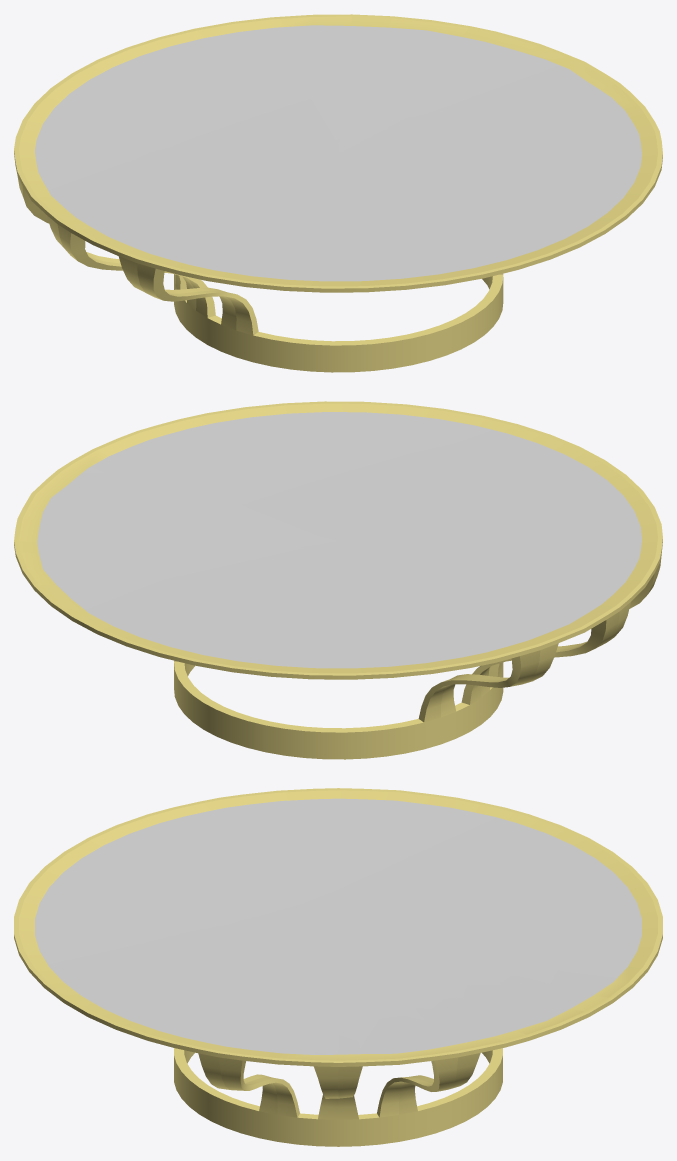
Rendered from round_table_sitting_area.fbx.
3 views of the same model, one above another, from view 1: azimuth 30°, elevation 25°; view 2: azimuth 150°, elevation 25°; view 3: azimuth 270°, elevation 25° (orthographic).
Parts seen in each view (by area): view 1: round_coffee_table; view 2: round_coffee_table; view 3: round_coffee_table.
Boxes of the visible parts, x1=… form: round_coffee_table: x1=14, y1=14, x2=662, y2=372; round_coffee_table: x1=14, y1=401, x2=662, y2=759; round_coffee_table: x1=14, y1=788, x2=662, y2=1146.
Bounding box in the file's own units: 183 × 47.06 × 183.
